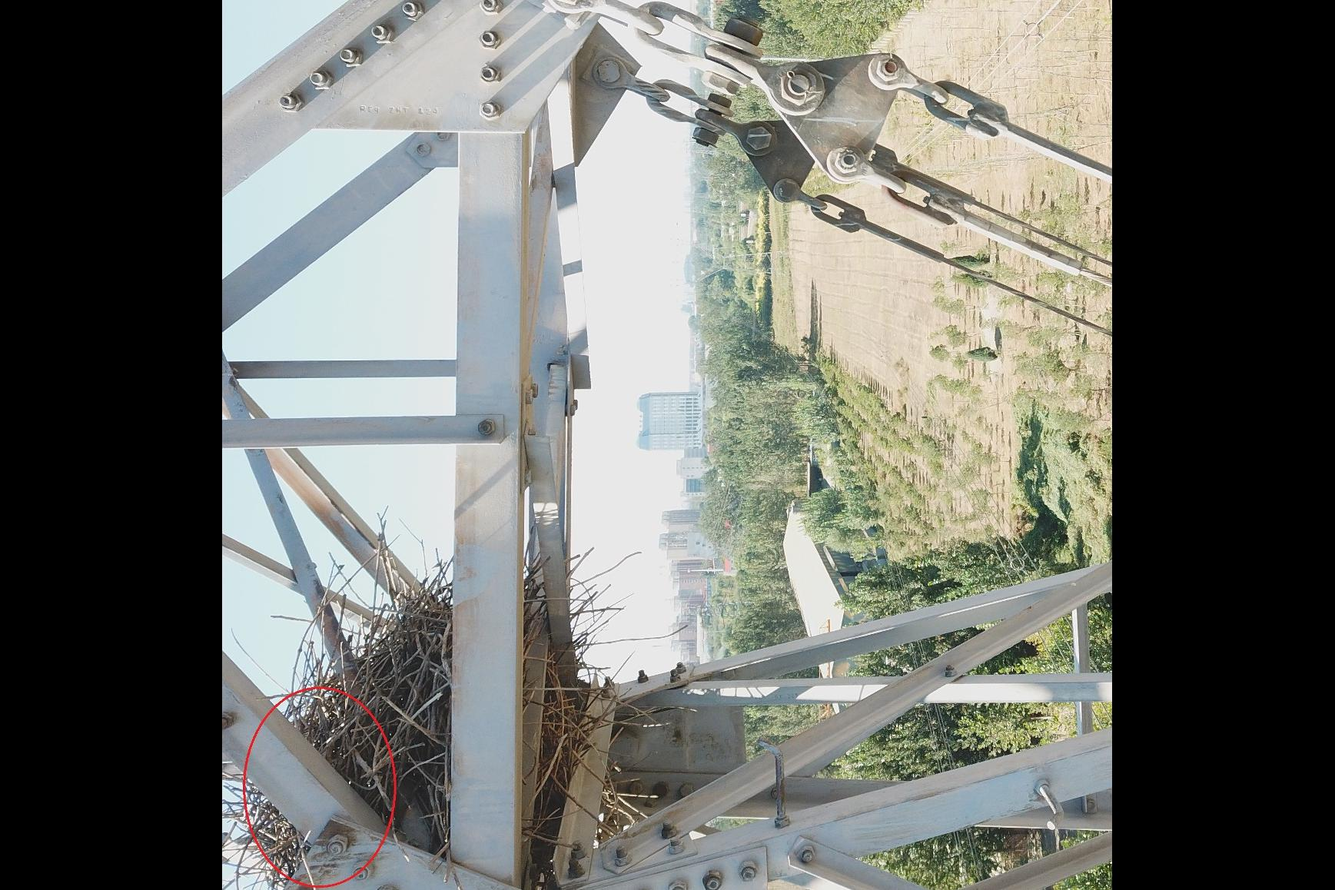nest: (234, 551, 606, 890)
